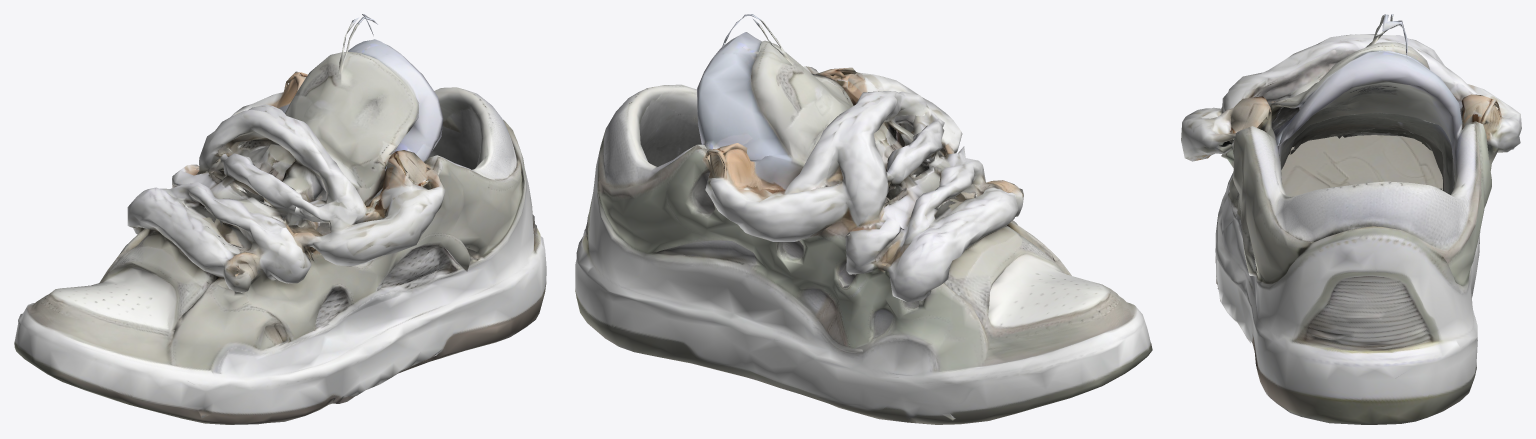
Rendered from avatar-model.glb.
3 views of the same model, side by side, from view 1: azimuth 30°, elevation 25°; view 2: azimuth 150°, elevation 25°; view 3: azimuth 270°, elevation 25° (orthographic). The views are drawn at different scales.
Bounding box in the file's own units: 2 × 1.17 × 1.06.
1 material, 1 textured.
